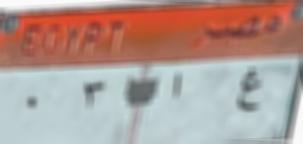0: (19, 94, 46, 117)
3: (76, 79, 110, 118)
ain: (231, 62, 270, 122)
alif: (165, 65, 192, 108)
